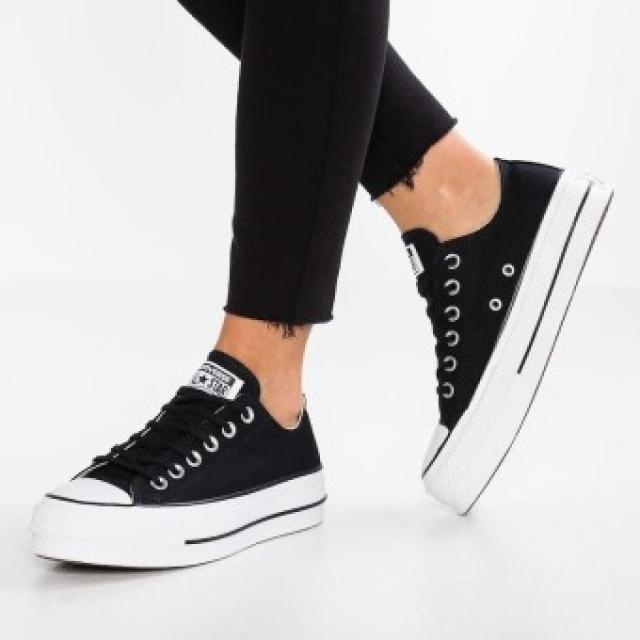no-boots: (363, 143, 614, 548), (32, 369, 339, 597)
